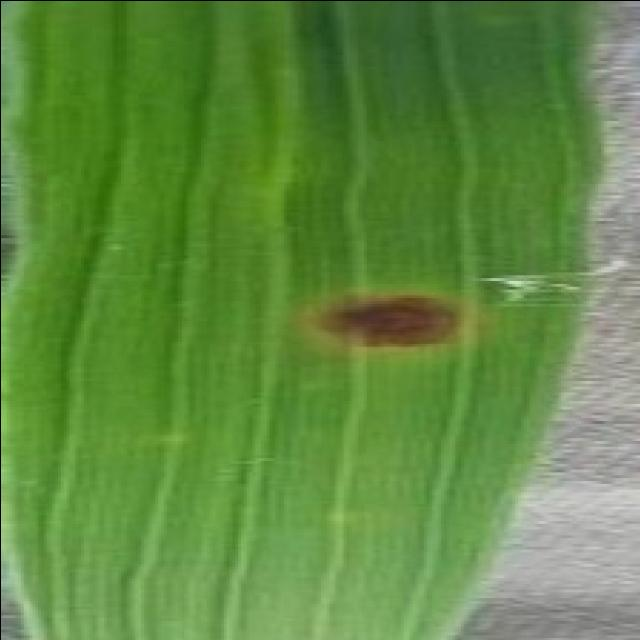Unhealthy: (302, 282, 485, 359)
